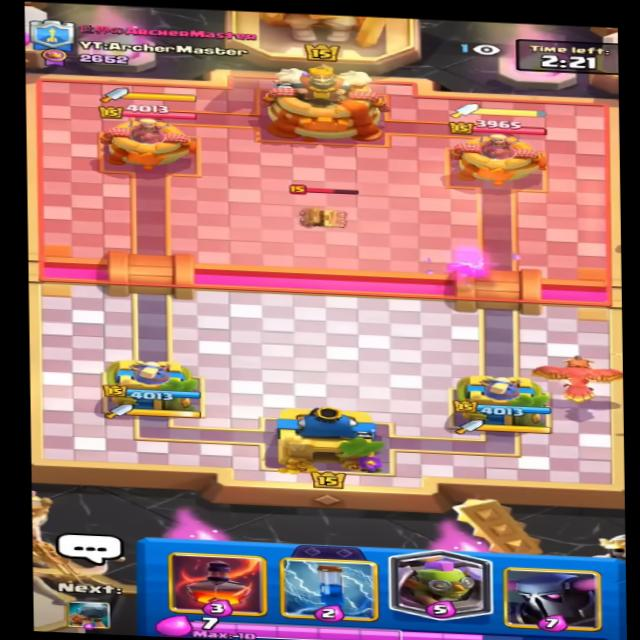tesla-closed: (280, 177, 370, 232)
